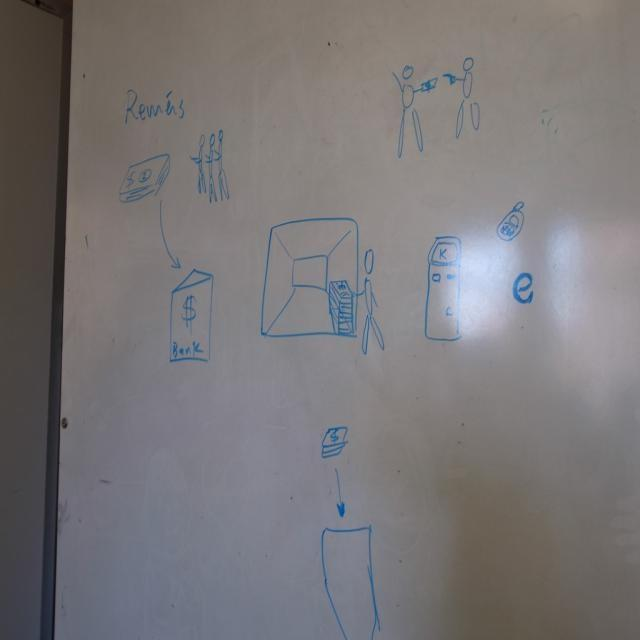Whiteboard: (39, 0, 639, 639)
